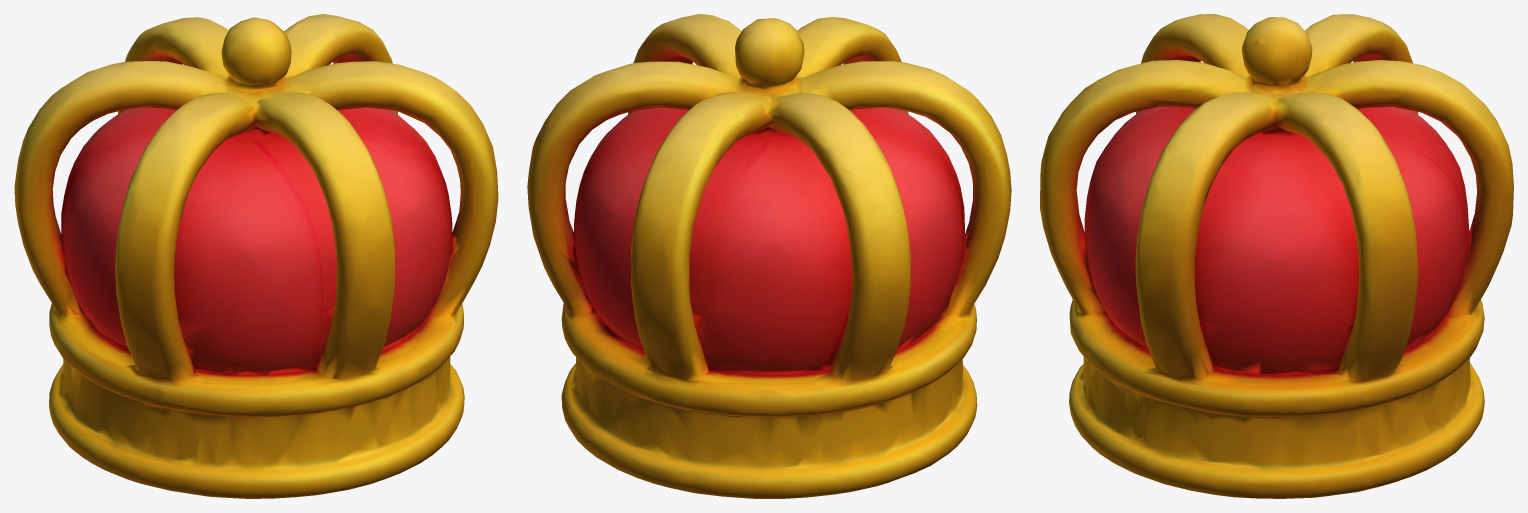
File: cs-big-crown.glb
The picture shows the model from 3 angles, left to right: view 1: azimuth 30°, elevation 25°; view 2: azimuth 150°, elevation 25°; view 3: azimuth 270°, elevation 25°; orthographic projection.
Visible parts, largest first — view 1: tripo_node_ee25bf30-55cd-4c8b-b82e-ec23b4c0cfe7; view 2: tripo_node_ee25bf30-55cd-4c8b-b82e-ec23b4c0cfe7; view 3: tripo_node_ee25bf30-55cd-4c8b-b82e-ec23b4c0cfe7.
Boxes of the visible parts, x1=… form: tripo_node_ee25bf30-55cd-4c8b-b82e-ec23b4c0cfe7: x1=14, y1=14, x2=498, y2=498; tripo_node_ee25bf30-55cd-4c8b-b82e-ec23b4c0cfe7: x1=527, y1=14, x2=1011, y2=498; tripo_node_ee25bf30-55cd-4c8b-b82e-ec23b4c0cfe7: x1=1040, y1=14, x2=1513, y2=498.
Size of the model in its own units: 0.9221 by 0.9236 by 1.
Materials: 1 (1 with a texture image).
